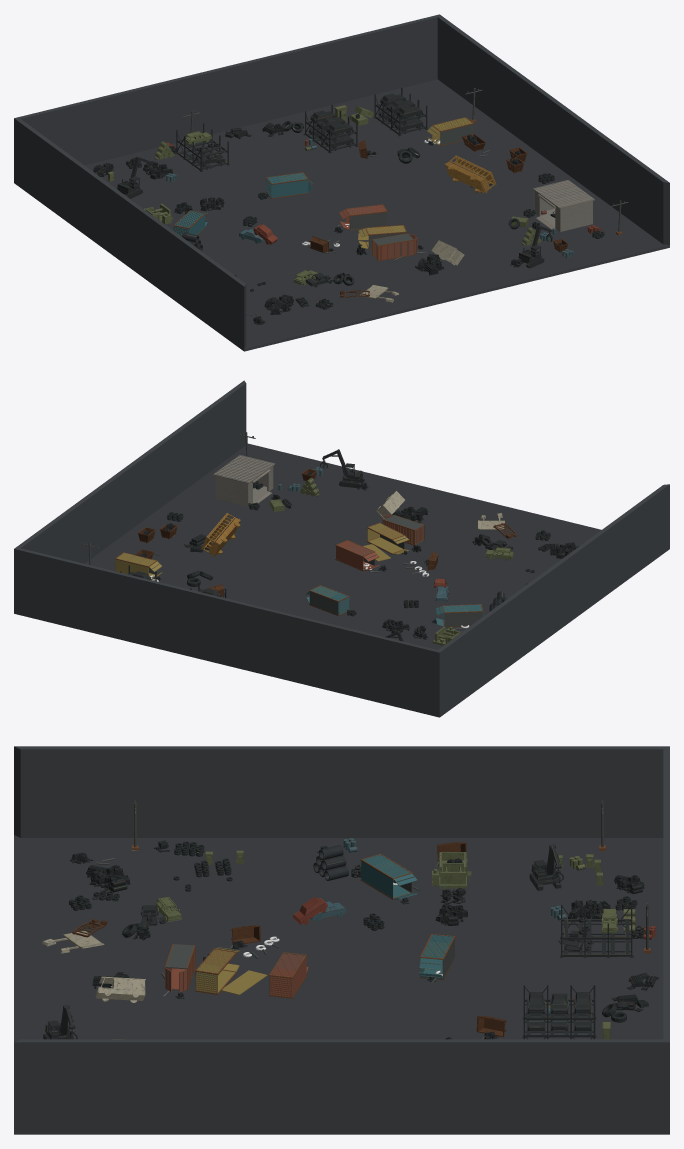
File: junkyard.glb
3 renders of one model, top to bottom at view 1: azimuth 30°, elevation 25°; view 2: azimuth 150°, elevation 25°; view 3: azimuth 270°, elevation 25°, orthographic. The views are drawn at different scales.
Visible parts, largest first — view 1: Cube, workshop_open, car_rack_loaded_6, Rack - middle six cars, bus_upright, car_rack_empty, Second sorting crane, sorting_crane, 01 - central side-fallen freight | floor, 02 - central angled collapse | roof, 04 - southern overturned freight | side sheet.001; view 2: Cube, workshop_open, bus_upright, Second sorting crane; view 3: Cube, Rack - middle six cars, car_rack_empty, scrap_hydraulic_press, Van - workshop service, sorting_crane, playground_pipe_stack_6, scrap_heap_large, Second sorting crane, 05 - west processing spill | roof, scrap_heap_extra_large, fallen_signboard_simple.
Boxes of the visible parts, bbox=[...] form: Cube: bbox=[14, 14, 669, 351]; workshop_open: bbox=[533, 180, 594, 231]; car_rack_loaded_6: bbox=[373, 87, 427, 136]; Rack - middle six cars: bbox=[303, 104, 358, 153]; bus_upright: bbox=[444, 155, 496, 193]; car_rack_empty: bbox=[175, 123, 229, 171]; Second sorting crane: bbox=[518, 225, 552, 268]; sorting_crane: bbox=[117, 156, 151, 198]; 01 - central side-fallen freight | floor: bbox=[349, 212, 387, 229]; 02 - central angled collapse | roof: bbox=[271, 180, 308, 197]; 04 - southern overturned freight | side sheet.001: bbox=[379, 240, 413, 259]; Cube: bbox=[14, 380, 669, 717]; workshop_open: bbox=[213, 455, 275, 506]; bus_upright: bbox=[201, 513, 240, 556]; Second sorting crane: bbox=[320, 449, 364, 488]; Cube: bbox=[14, 746, 669, 1134]; Rack - middle six cars: bbox=[522, 985, 596, 1037]; car_rack_empty: bbox=[560, 904, 633, 957]; scrap_hydraulic_press: bbox=[432, 852, 471, 888]; Van - workshop service: bbox=[95, 976, 145, 1002]; sorting_crane: bbox=[529, 844, 564, 890]; playground_pipe_stack_6: bbox=[313, 845, 348, 880]; scrap_heap_large: bbox=[86, 864, 130, 892]; Second sorting crane: bbox=[43, 1005, 77, 1039]; 05 - west processing spill | roof: bbox=[361, 861, 393, 898]; scrap_heap_extra_large: bbox=[568, 899, 610, 918]; fallen_signboard_simple: bbox=[41, 930, 104, 953].
Size of the model in its own units: 77.94 by 11.34 by 73.01.
Materials: 3 (1 with a texture image).
